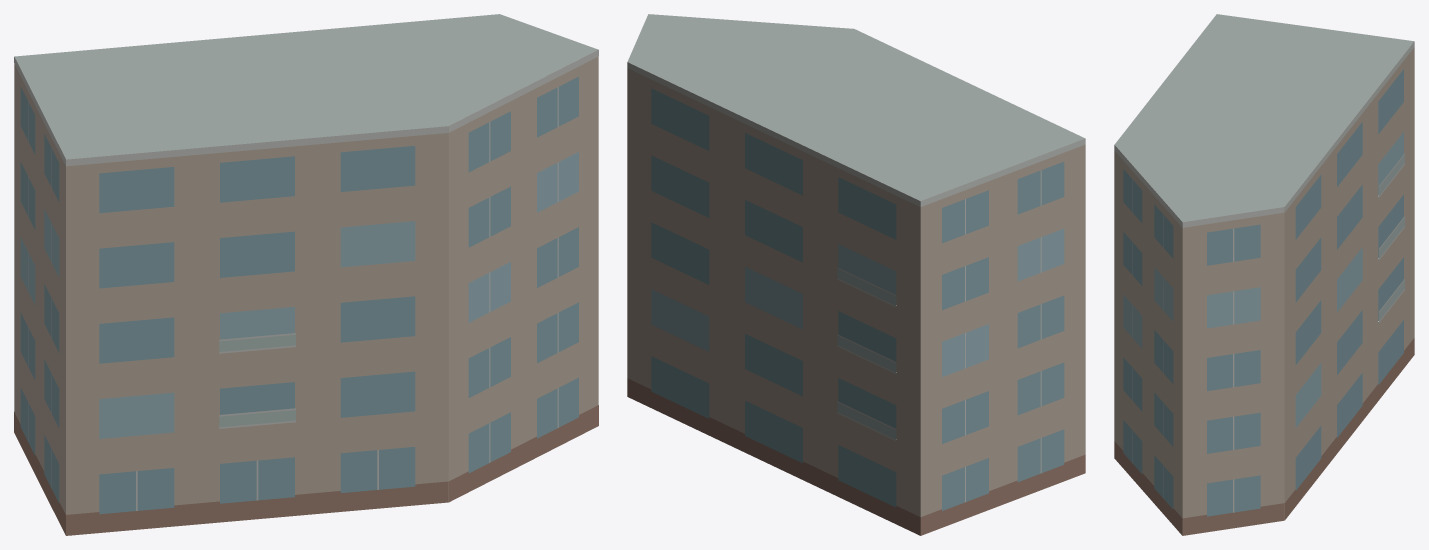
Rendered from survey-upis-32885911.glb.
3 views of the same model, side by side, from view 1: azimuth 30°, elevation 25°; view 2: azimuth 150°, elevation 25°; view 3: azimuth 270°, elevation 25° (orthographic). The views are drawn at different scales.
Visible parts, largest first — view 1: survey-upis-32885911.tmp; view 2: survey-upis-32885911.tmp; view 3: survey-upis-32885911.tmp.
Boxes of the visible parts, <box> form: survey-upis-32885911.tmp: <box>14,14,598,535</box>; survey-upis-32885911.tmp: <box>627,14,1085,535</box>; survey-upis-32885911.tmp: <box>1114,14,1414,535</box>.
Size of the model in its own units: 19.52 by 13.7 by 11.89.
